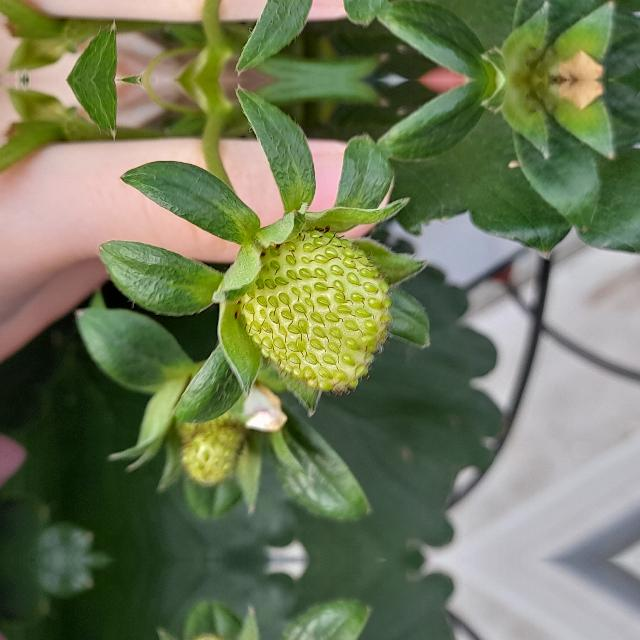Health_25: (236, 226, 394, 397)
